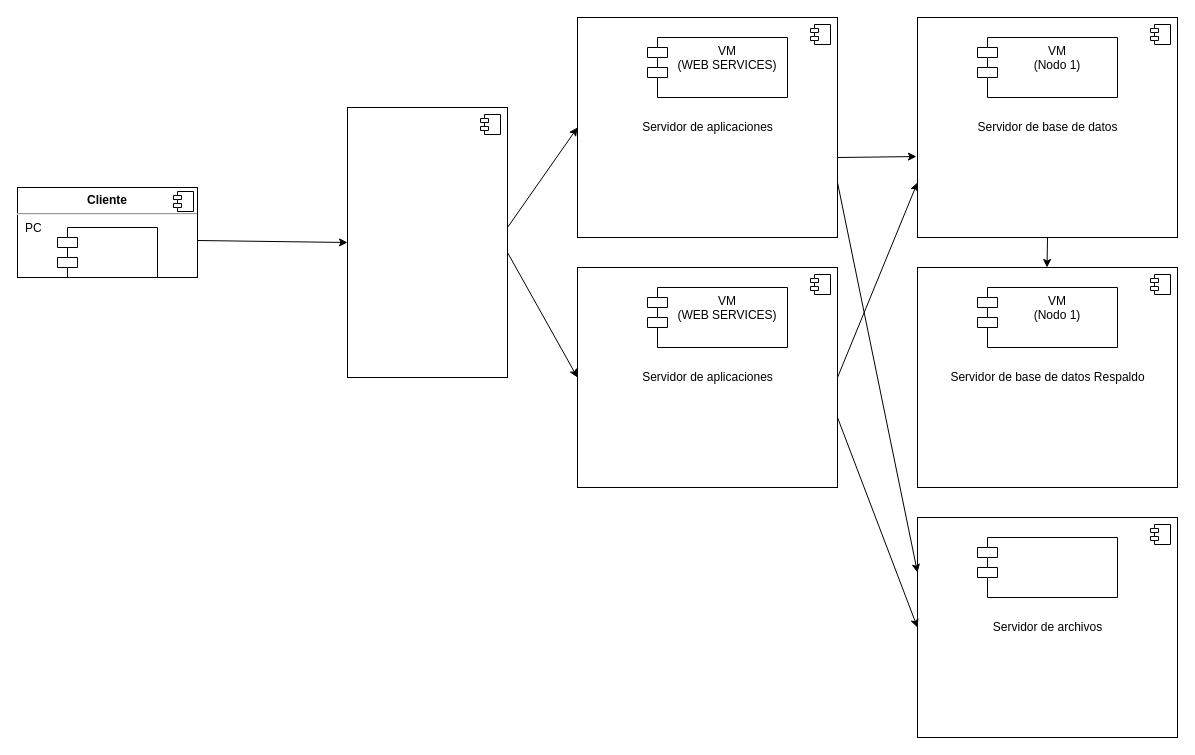
Some shapes in this 1195 by 755 pixel diagram are drawn without their labels. Here are the shapes that lost their labels. From the top down, the centre of each, then its label:
the point at 107,252: Aplicativo Desktop
the point at 427,242: Balanceador de cargas
the point at 1047,567: VM (File System)
